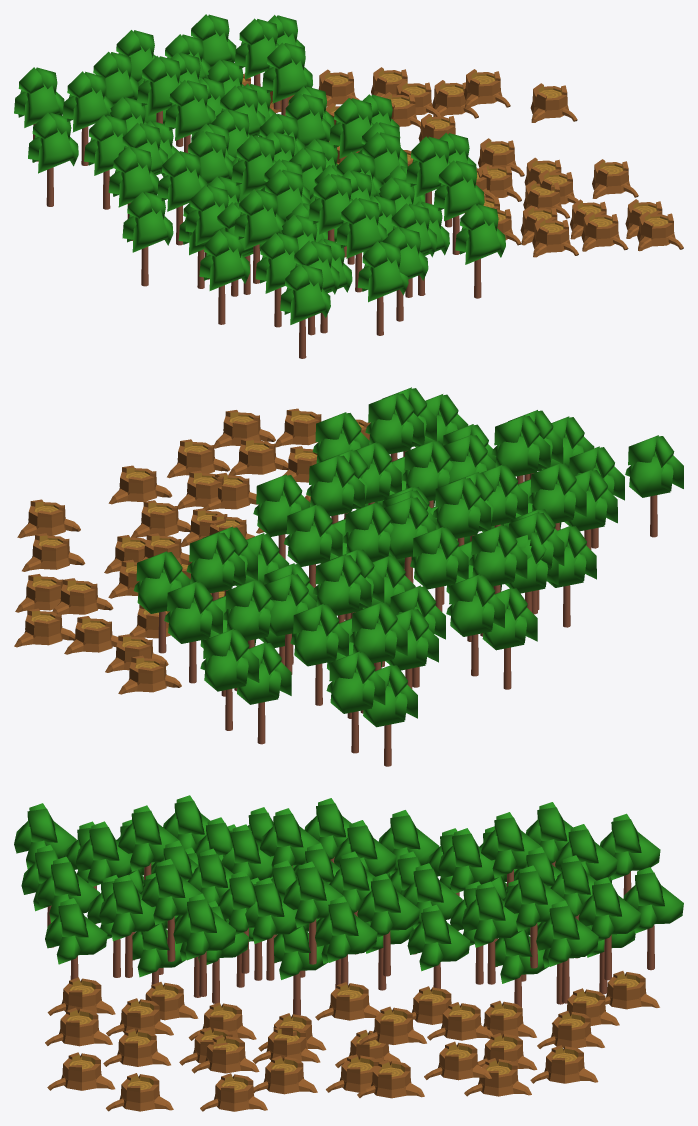
Rendered from tree.gltf.
The picture shows the model from 3 angles, top to bottom: view 1: azimuth 30°, elevation 25°; view 2: azimuth 150°, elevation 25°; view 3: azimuth 270°, elevation 25°; orthographic projection. The views are drawn at different scales.
Visible parts, largest first — view 1: Tree_41_summer.035, Tree_41_summer.068, Tree_41_summer.082, Tree_41_summer.011, Tree_41_summer.059, Tree_41_summer.056, Tree_41_summer.065, Tree_41_summer.009, Tree_41_summer.053, Tree_41_summer.057, Tree_41_summer.033, Tree_41_summer.017 (+65 smaller); view 2: Tree_41_summer.010, Tree_41_summer.022, Tree_41_summer.082, Tree_41_summer.034, Tree_41_summer.014, Tree_41_summer.002, Tree_41_summer.026, Tree_41_summer.038, Tree_41_summer.033, Tree_41_summer.013, Tree_41_summer.061, Tree_41_summer.001 (+58 smaller); view 3: Tree_41_summer.018, Tree_41_summer.066, Tree_41_summer.038, Tree_41_summer.014, Tree_41_summer.042, Tree_41_summer.017, Tree_41_summer.020, Tree_41_summer.065, Tree_41_summer.068, Tree_41_summer.022, Tree_41_summer.061, Tree_41_summer.037 (+69 smaller).
Part boxes in pixels (<box>): Tree_41_summer.035: <box>122,192,173,286</box>; Tree_41_summer.068: <box>455,204,505,298</box>; Tree_41_summer.082: <box>280,264,330,358</box>; Tree_41_summer.011: <box>28,112,78,206</box>; Tree_41_summer.059: <box>199,230,250,324</box>; Tree_41_summer.056: <box>357,241,408,335</box>; Tree_41_summer.065: <box>433,160,484,254</box>; Tree_41_summer.009: <box>62,71,112,165</box>; Tree_41_summer.053: <box>336,197,386,292</box>; Tree_41_summer.057: <box>234,189,284,283</box>; Tree_41_summer.033: <box>157,151,207,245</box>; Tree_41_summer.017: <box>262,42,312,115</box>; Tree_41_summer.010: <box>326,651,385,753</box>; Tree_41_summer.022: <box>200,629,259,730</box>; Tree_41_summer.082: <box>625,435,683,537</box>; Tree_41_summer.034: <box>446,574,504,676</box>; Tree_41_summer.014: <box>164,581,222,683</box>; Tree_41_summer.002: <box>290,603,348,705</box>; Tree_41_summer.026: <box>410,526,468,611</box>; Tree_41_summer.038: <box>284,504,342,587</box>; Tree_41_summer.033: <box>468,525,527,594</box>; Tree_41_summer.013: <box>186,532,245,601</box>; Tree_41_summer.061: <box>365,393,423,461</box>; Tree_41_summer.001: <box>312,554,371,623</box>; Tree_41_summer.018: <box>536,900,598,1003</box>; Tree_41_summer.066: <box>173,893,235,996</box>; Tree_41_summer.038: <box>357,873,419,976</box>; Tree_41_summer.014: <box>578,877,640,980</box>; Tree_41_summer.042: <box>315,896,377,985</box>; Tree_41_summer.017: <box>462,881,522,984</box>; Tree_41_summer.020: <box>407,904,470,988</box>; Tree_41_summer.065: <box>99,875,159,977</box>; Tree_41_summer.068: <box>45,898,107,979</box>; Tree_41_summer.022: <box>623,867,683,970</box>; Tree_41_summer.061: <box>141,858,204,961</box>; Tree_41_summer.037: <box>283,861,345,964</box>.
Bounding box in the file's own units: 11.66 × 4.04 × 13.86.
Materials: 4 (1 with a texture image).
